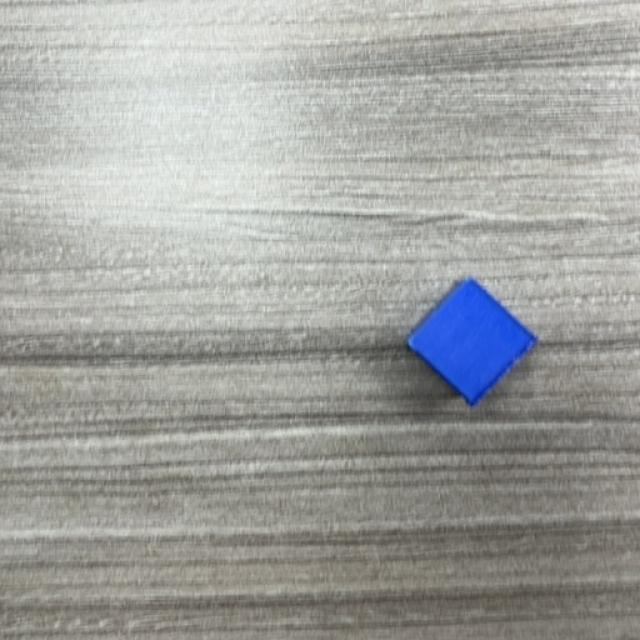Azul: (406, 279, 539, 409)
